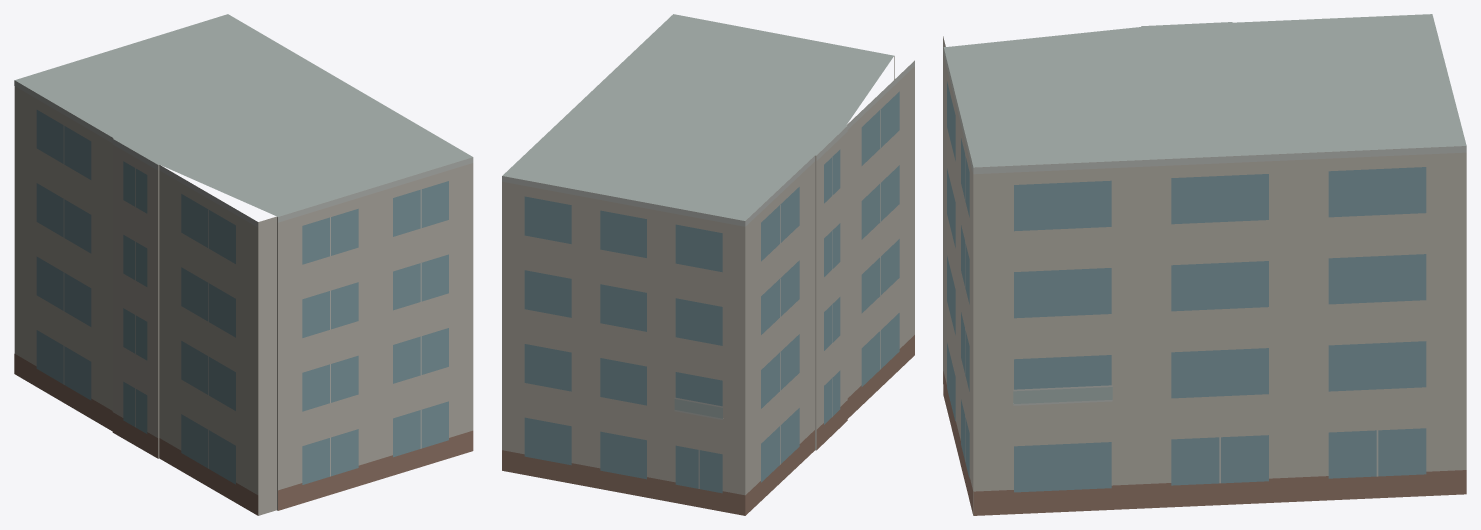
Rendered from survey-upis-32621866.glb.
3 renders of one model, left to right at view 1: azimuth 30°, elevation 25°; view 2: azimuth 150°, elevation 25°; view 3: azimuth 270°, elevation 25°, orthographic. The views are drawn at different scales.
Parts seen in each view (by area): view 1: survey-upis-32621866.tmp; view 2: survey-upis-32621866.tmp; view 3: survey-upis-32621866.tmp.
Boxes of the visible parts, box(x1,y1,x2,y2) form: survey-upis-32621866.tmp: box(14, 14, 473, 515); survey-upis-32621866.tmp: box(502, 14, 914, 515); survey-upis-32621866.tmp: box(943, 14, 1466, 515).
Size of the model in its own units: 11.94 by 12.62 by 17.2.
